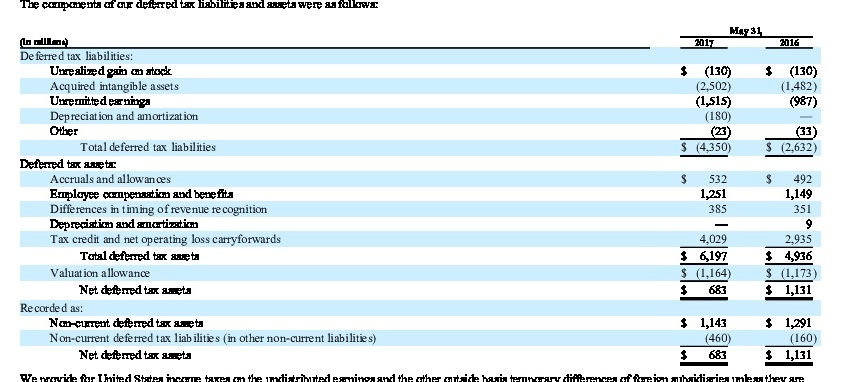table: (0, 0, 844, 382)
